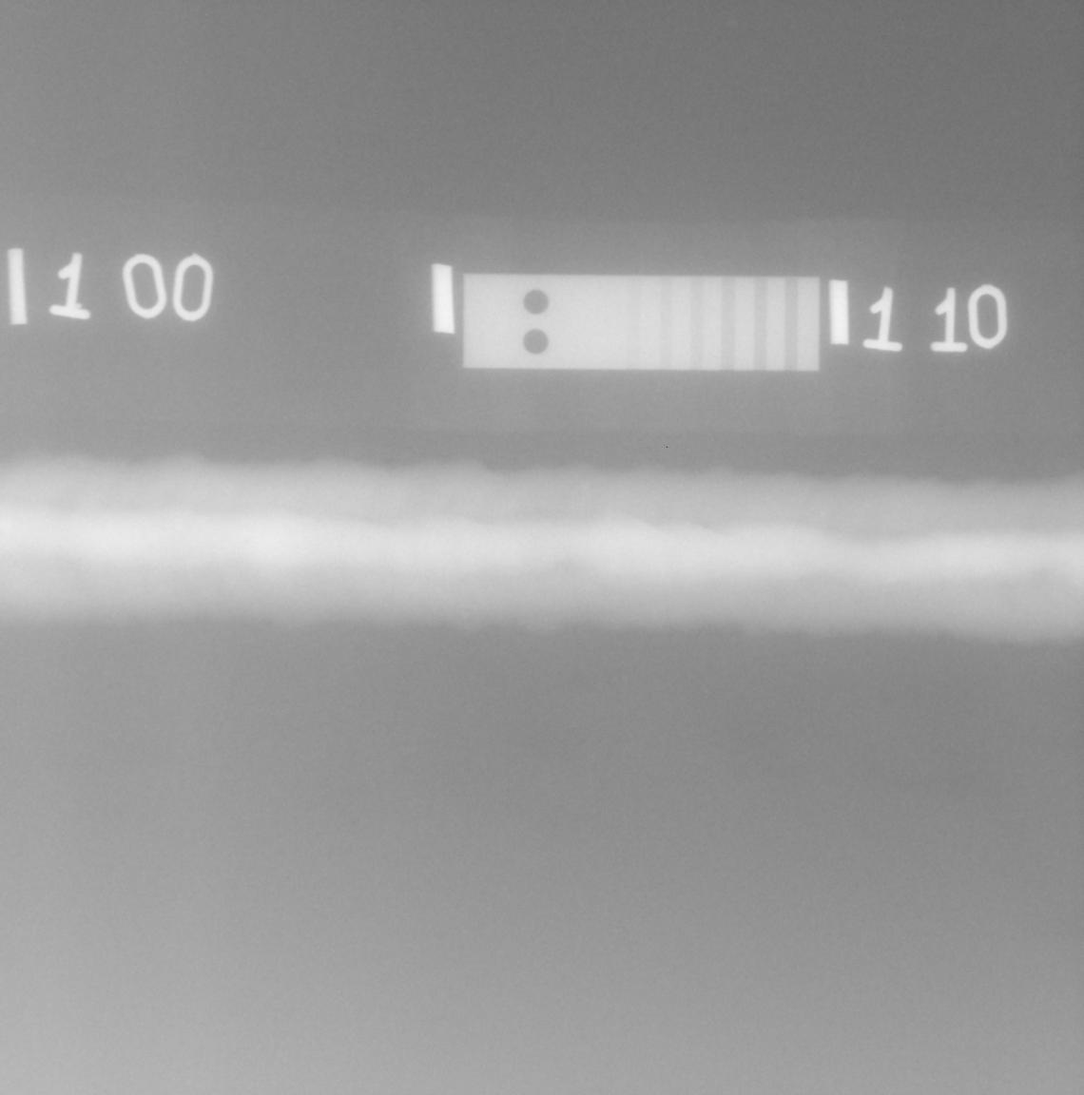Reference Standard 2: (463, 273, 819, 371)
